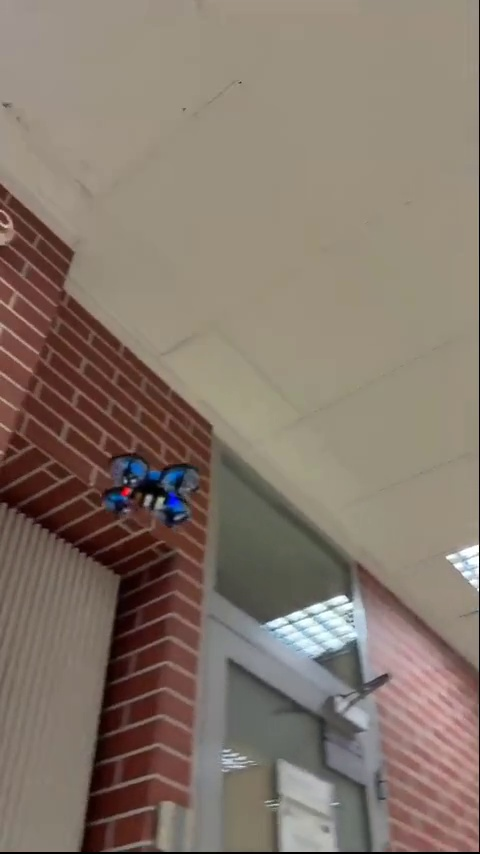drone: (104, 449, 200, 529)
